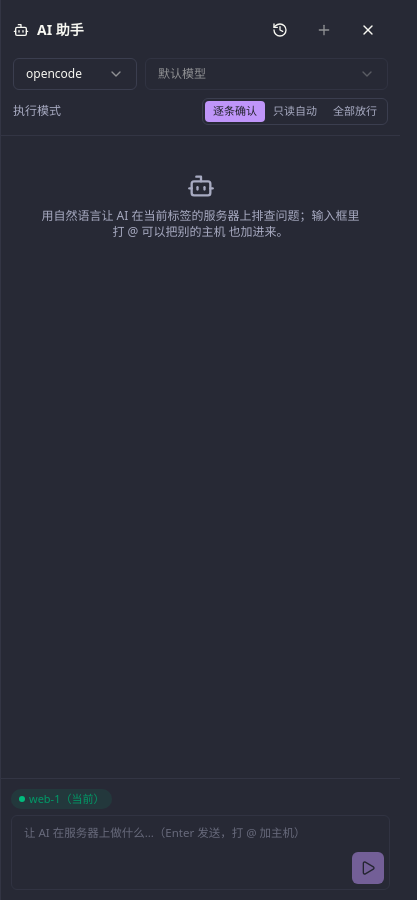
AI 文字按 Markdown 排版 › 历史会话回看同样渲染 Markdown
Click the button titled "历史会话": (280, 30) [260,10,300,50]
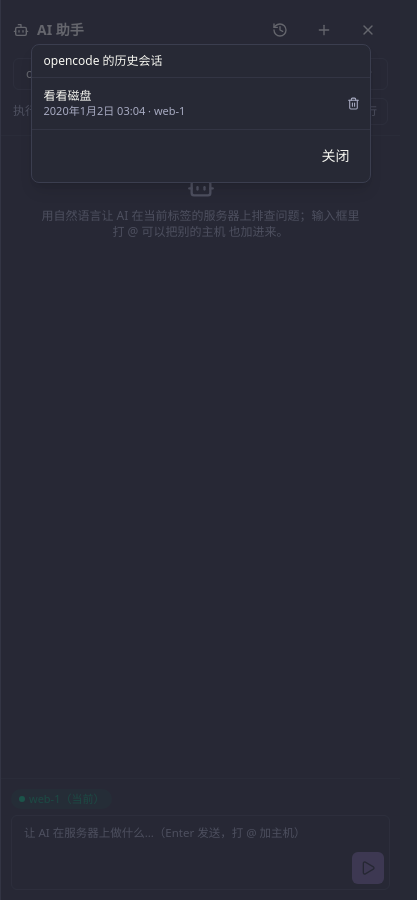
Click the text "看看磁盘": (68, 96) [44,87,92,104]
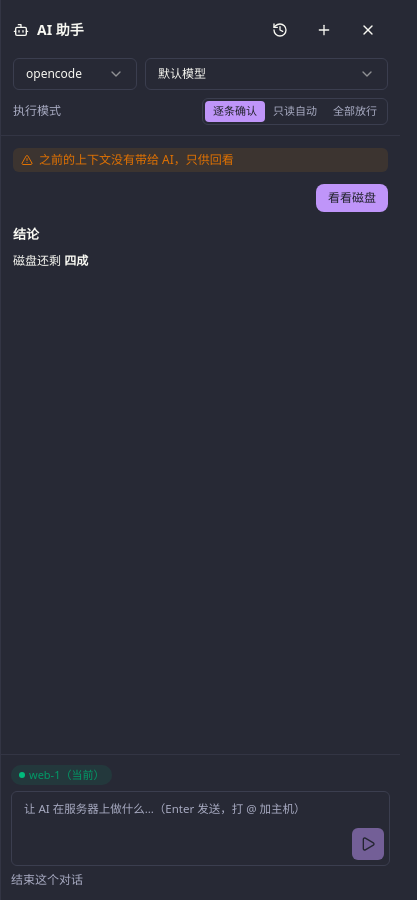
Expected: the heading "结论" is shown, [13,224,39,242]
Expected: the text "四成" is shown, [64,252,88,269]
